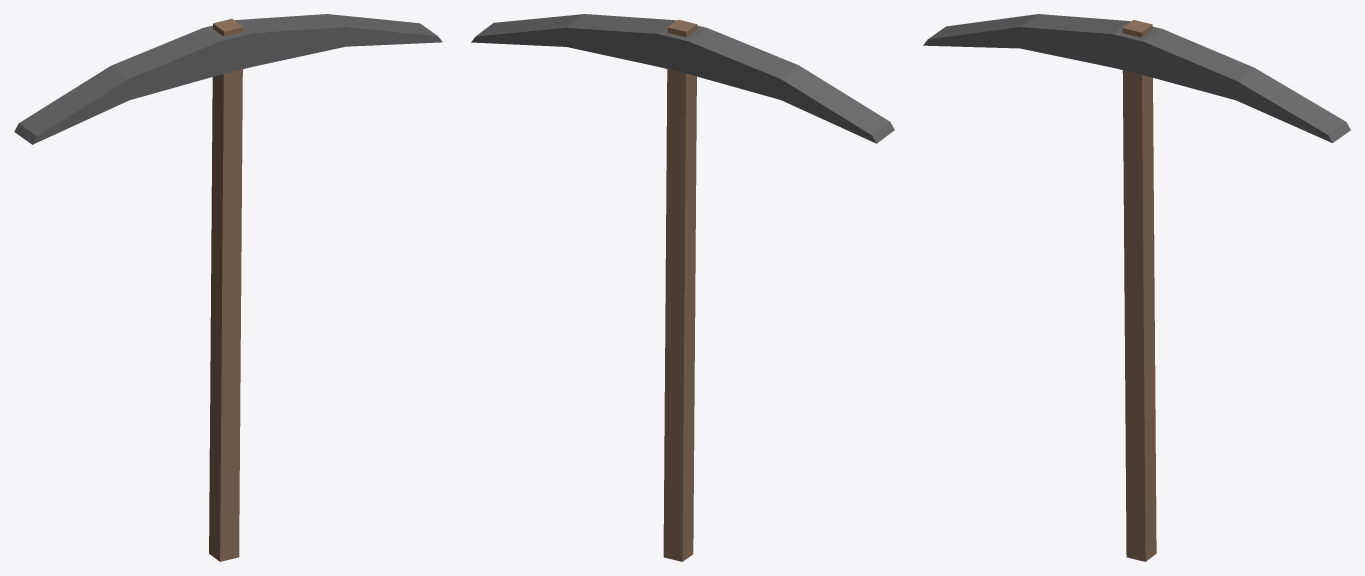
The model's file is Pickaxe.fbx.
The picture shows the model from 3 angles, left to right: view 1: azimuth 30°, elevation 25°; view 2: azimuth 150°, elevation 25°; view 3: azimuth 330°, elevation 25°; orthographic projection.
Parts seen in each view (by area): view 1: Pickaxe; view 2: Pickaxe; view 3: Pickaxe.
Boxes of the visible parts, <box> form: Pickaxe: <box>14,14,442,561</box>; Pickaxe: <box>471,14,894,561</box>; Pickaxe: <box>923,14,1350,561</box>.
Bounding box in the file's own units: 64.43 × 80.03 × 5.22.
